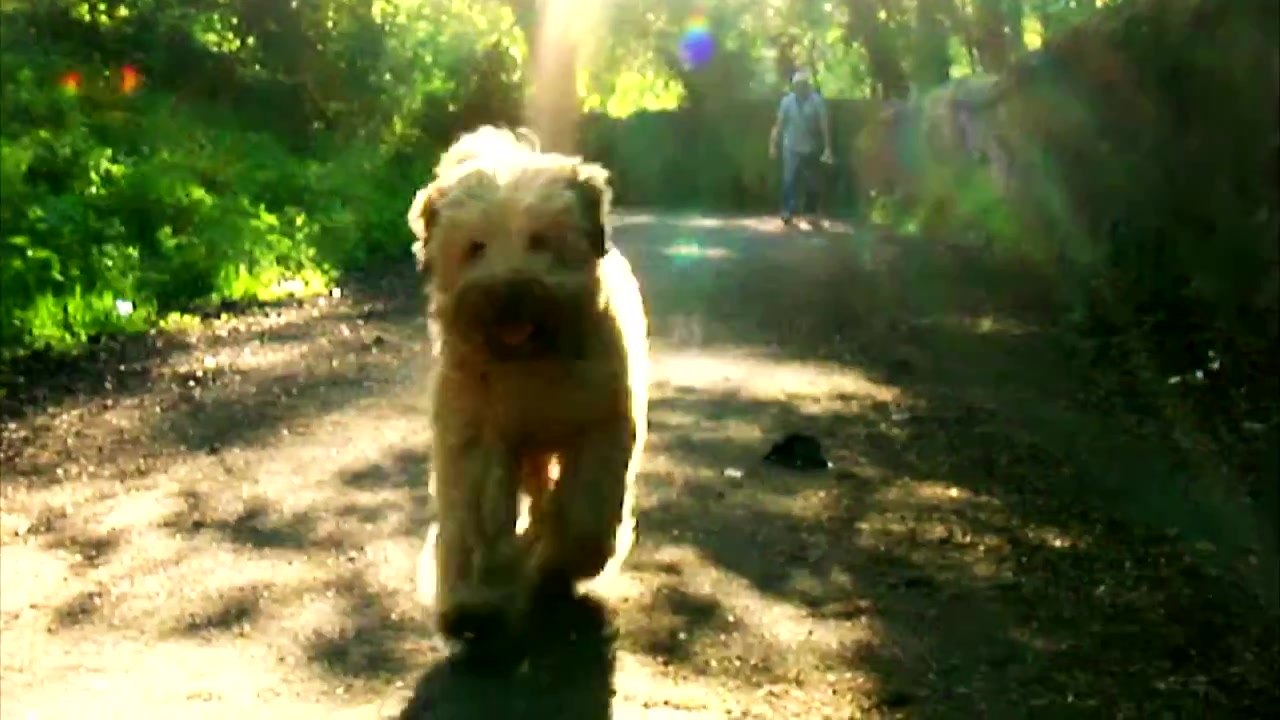dog: (409, 122, 653, 641)
